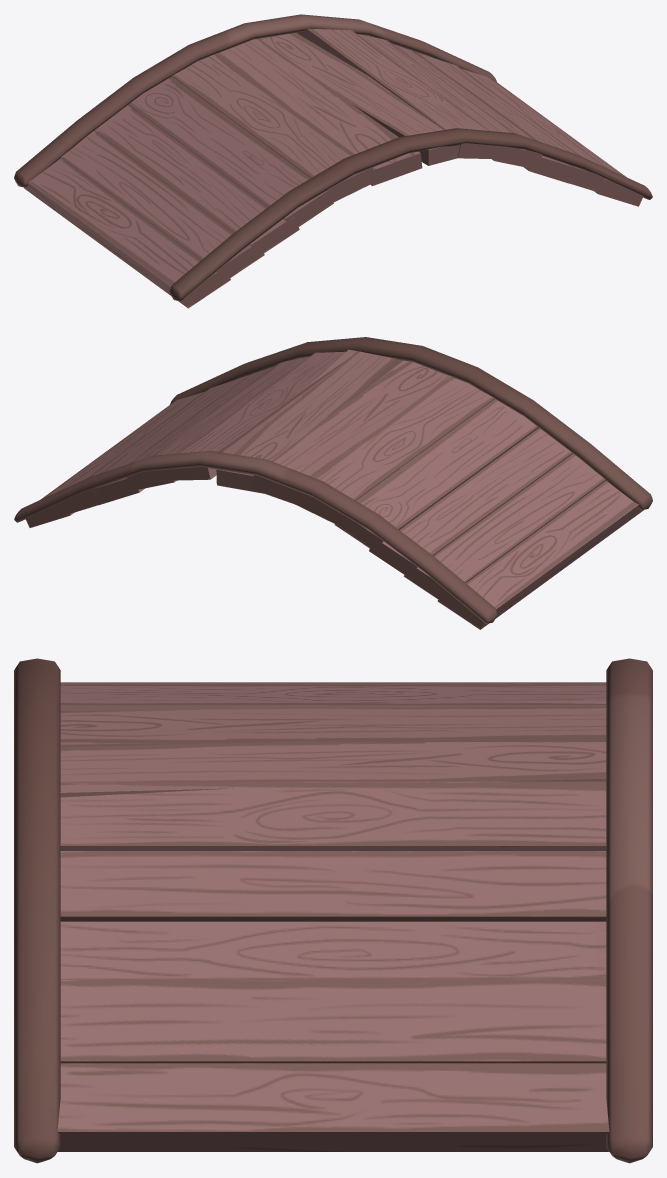
Rendered from Brown bridge.fbx.
3 renders of one model, top to bottom at view 1: azimuth 30°, elevation 25°; view 2: azimuth 150°, elevation 25°; view 3: azimuth 270°, elevation 25°, orthographic. The views are drawn at different scales.
Parts seen in each view (by area): view 1: polySurface3; view 2: polySurface3; view 3: polySurface3.
Part boxes in pixels (x1,y1,x2,y2): polySurface3: (14, 14, 652, 308); polySurface3: (14, 337, 652, 629); polySurface3: (14, 658, 652, 1163).
Size of the model in its own units: 10.3 by 2.48 by 6.28.
